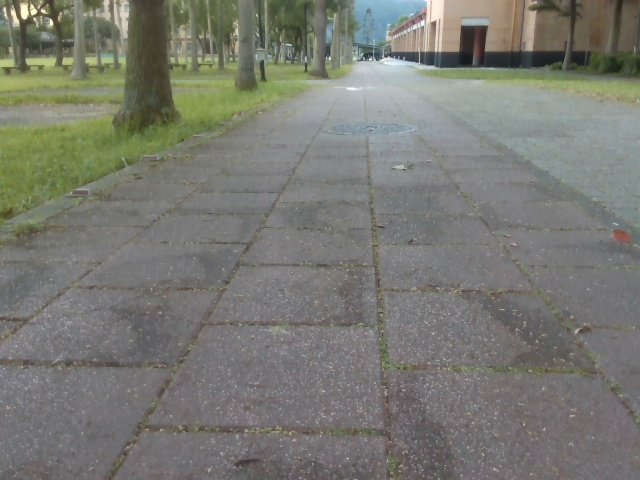grass: (0, 56, 356, 237), (0, 0, 237, 131), (256, 0, 412, 66), (408, 64, 639, 106)
road: (0, 62, 639, 479), (0, 107, 101, 124)
